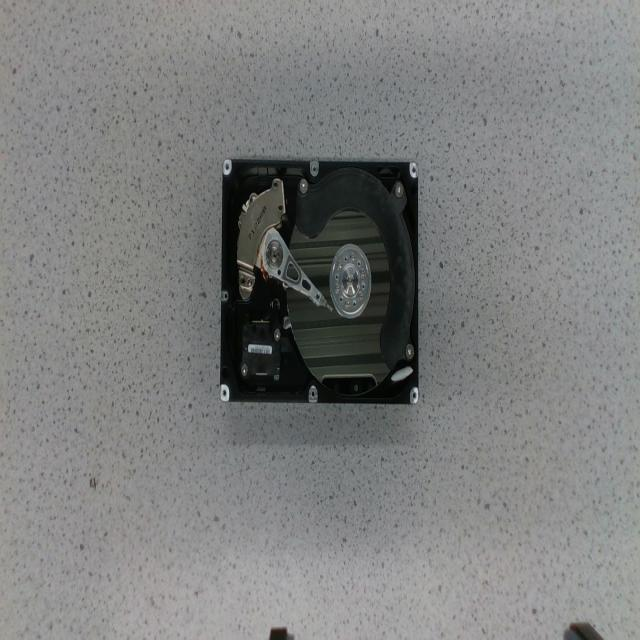actuator arm: (257, 228, 326, 306)
actuator axis: (266, 240, 282, 268)
case: (220, 159, 419, 405)
magnet: (238, 179, 286, 269)
pcb connector: (240, 320, 281, 380)
platter: (288, 212, 391, 392)
platter holder: (330, 244, 370, 318)
platter protector: (296, 169, 414, 370)
screw: (392, 180, 404, 198), (298, 179, 308, 194), (406, 343, 414, 360), (240, 363, 248, 377), (274, 328, 280, 340), (345, 299, 351, 310), (358, 291, 363, 301), (361, 268, 366, 278), (351, 252, 356, 262), (338, 260, 343, 270), (335, 283, 340, 293)
